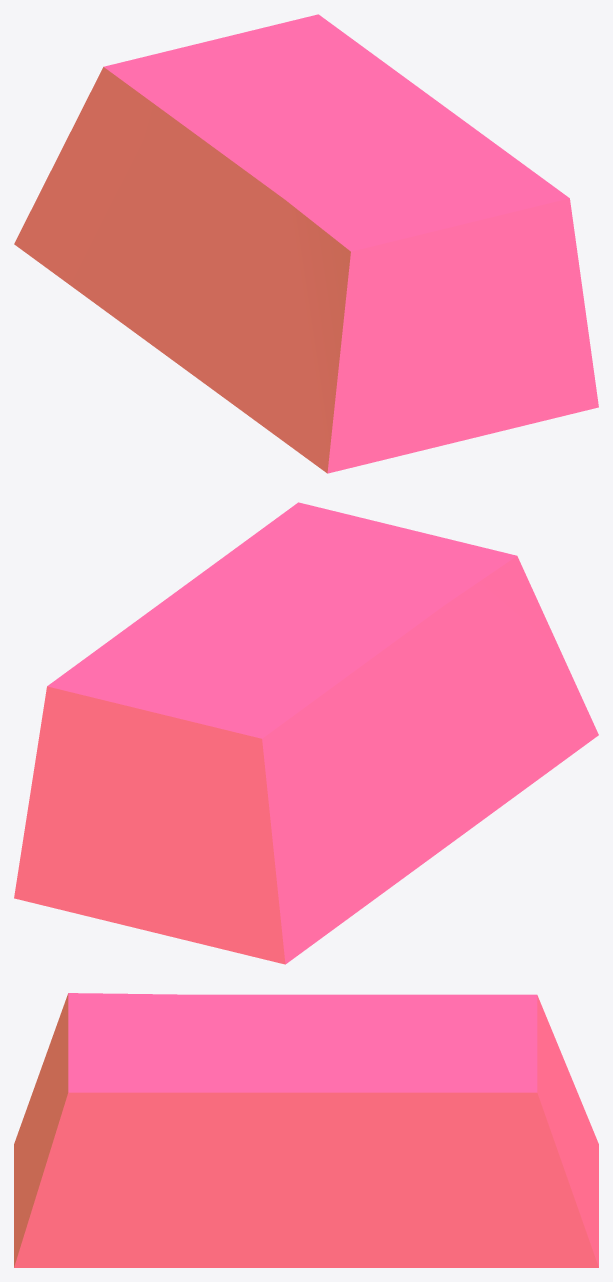
3 renders of one model, top to bottom at view 1: azimuth 30°, elevation 25°; view 2: azimuth 150°, elevation 25°; view 3: azimuth 270°, elevation 25°, orthographic. The views are drawn at different scales.
Parts seen in each view (by area): view 1: pCube9; view 2: pCube9; view 3: pCube9.
Part boxes in pixels (x1,y1,x2,y2): pCube9: (14,14,598,473); pCube9: (14,502,598,964); pCube9: (14,993,598,1267).
Size of the model in its own units: 5 by 3.31 by 10.
